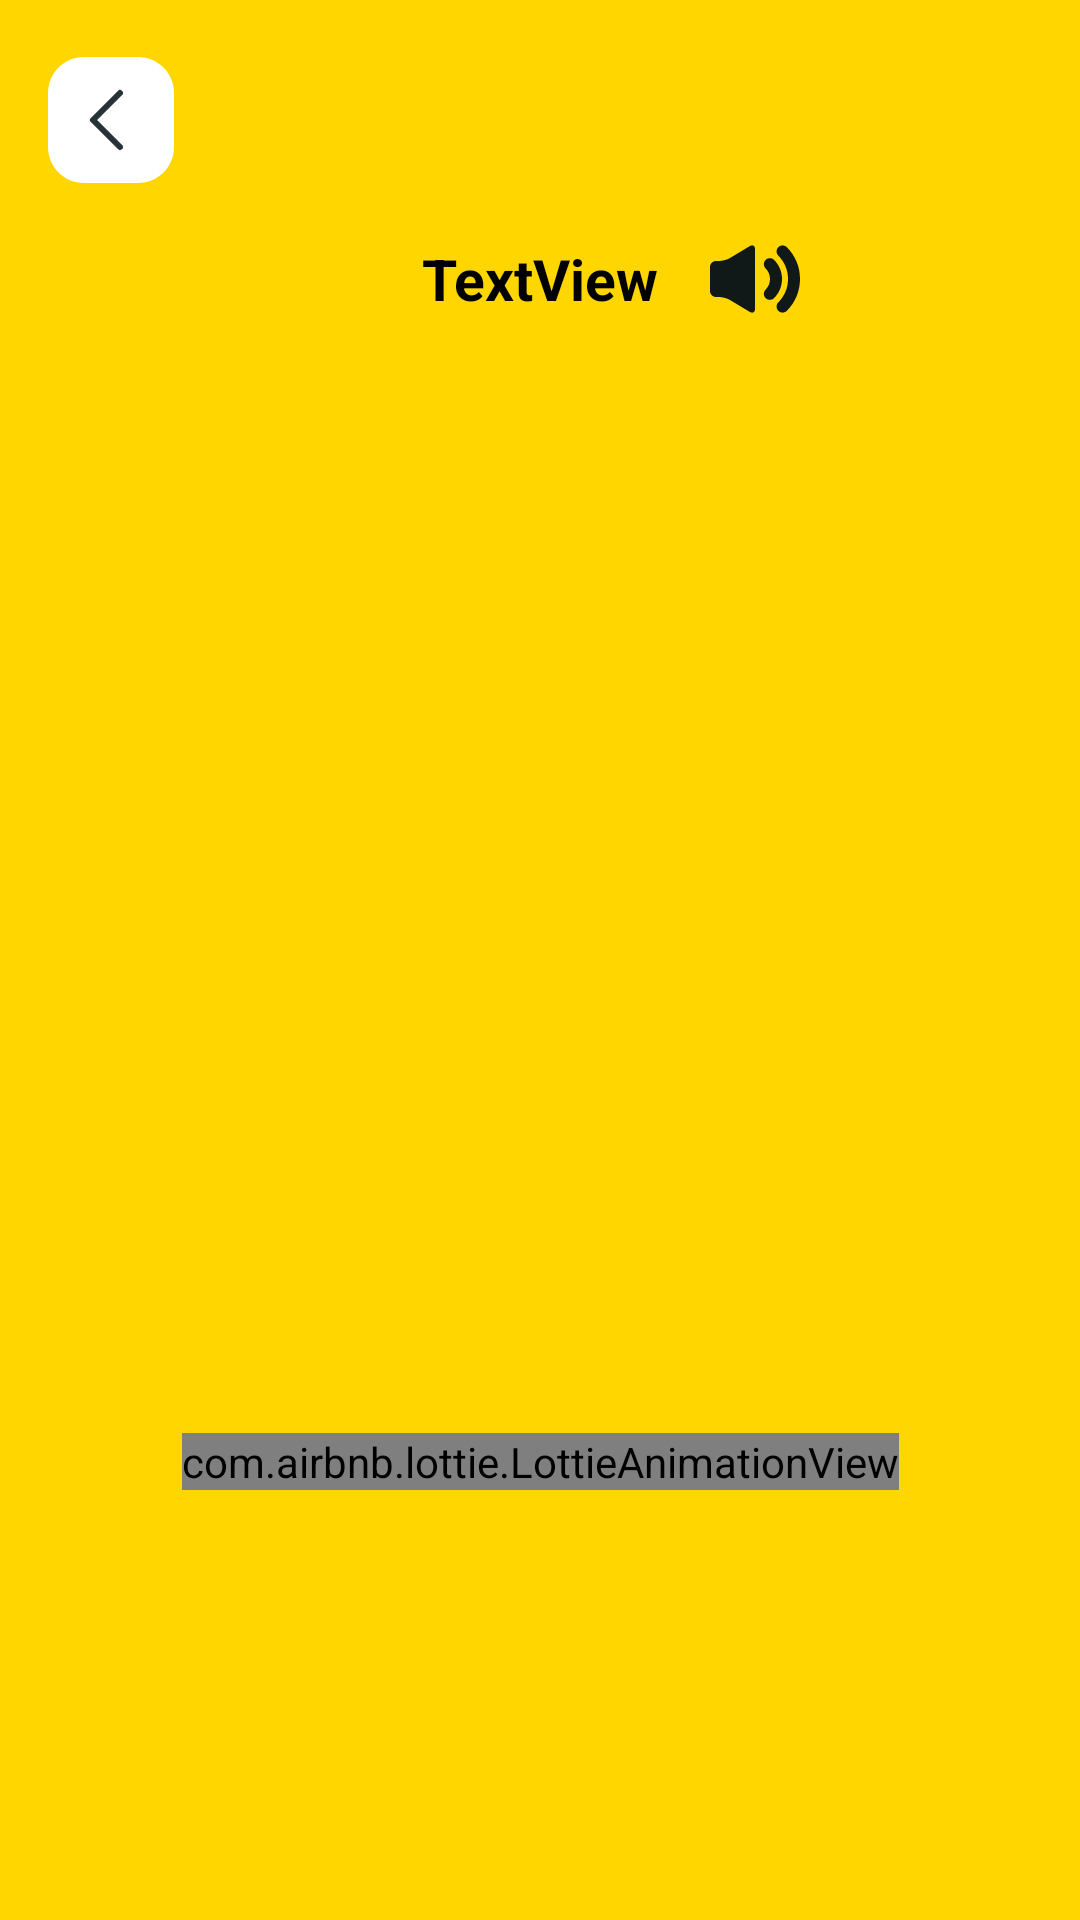

Named icons in this screenshot (1080 x 1920) and their centers, (x,y):
back: (111,120)
